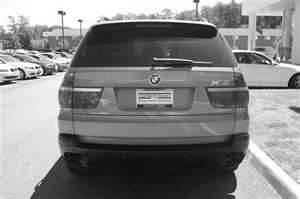car: (41, 4, 275, 192)
